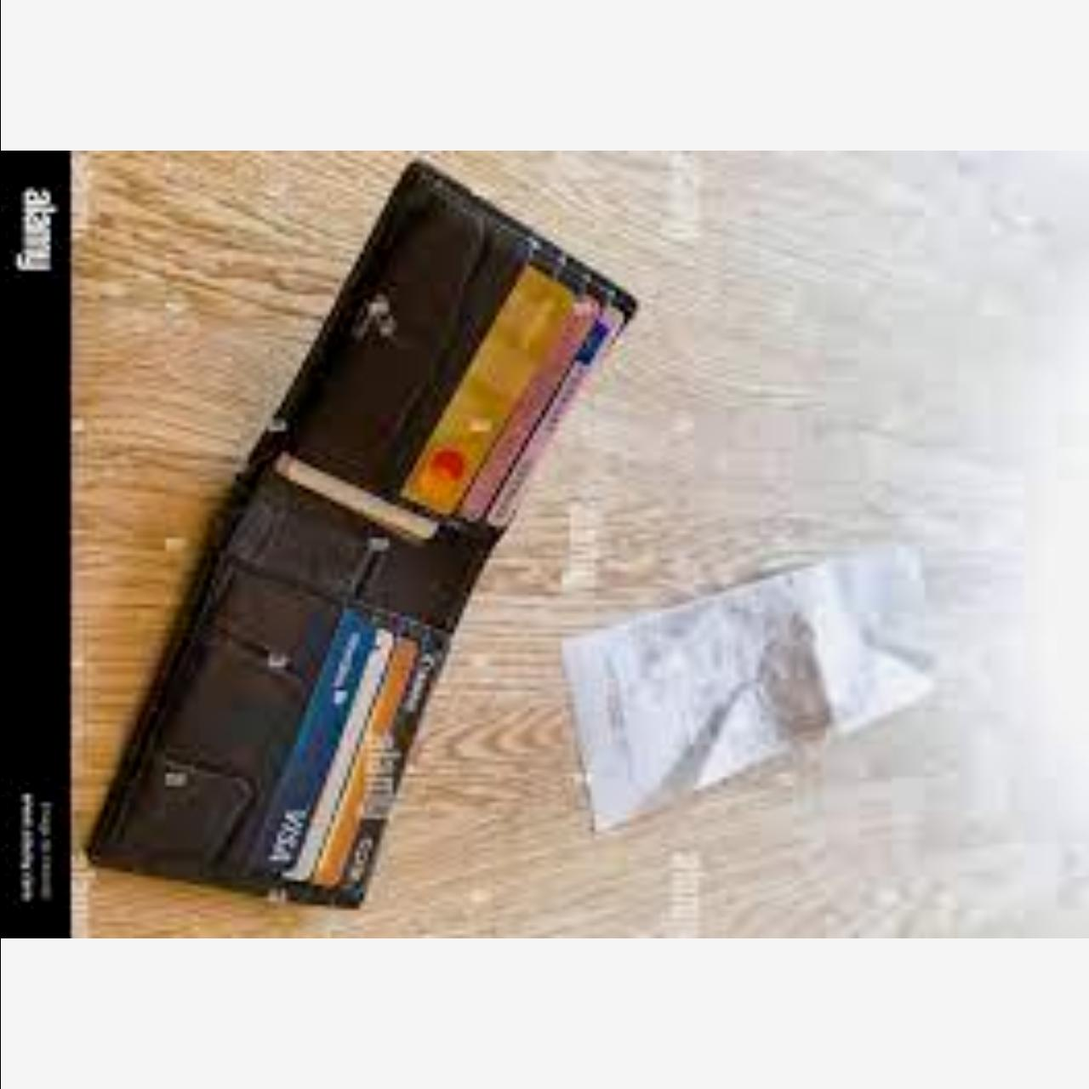wallet: (66, 151, 647, 938)
